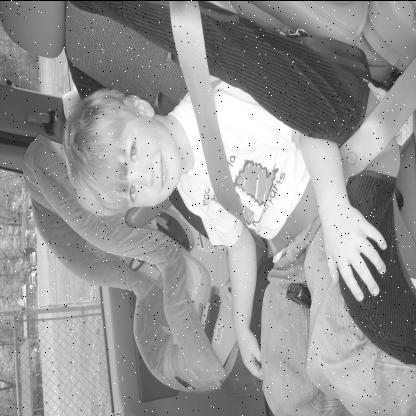seatbelt: (62, 30, 330, 252)
